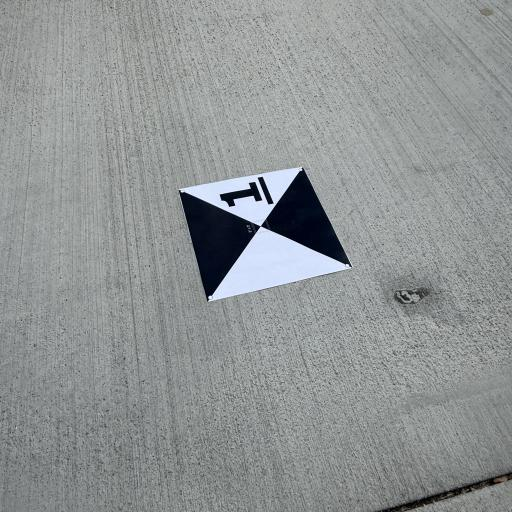target1: (175, 160, 354, 305)
